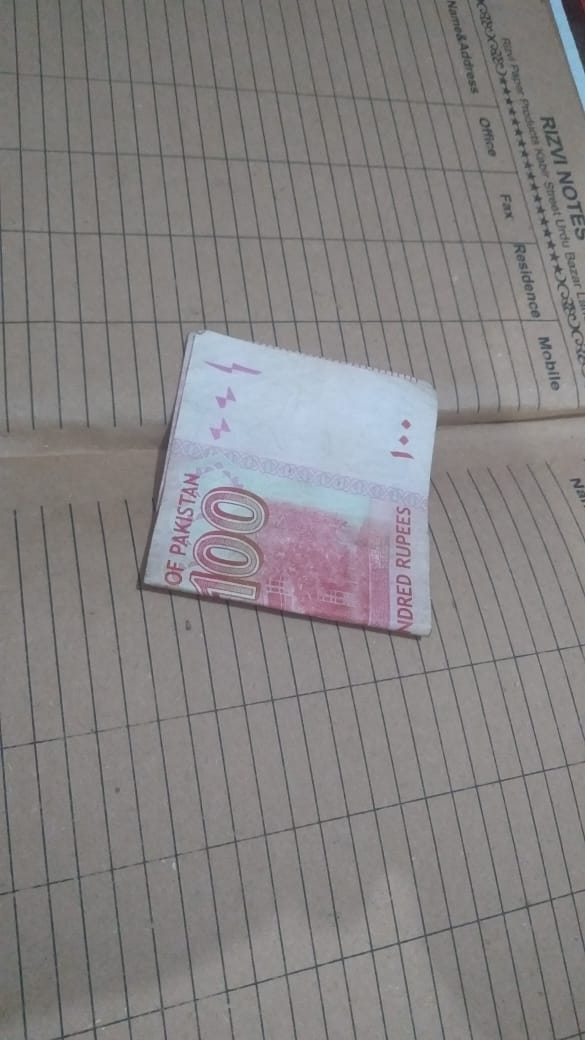100 rupee: (142, 319, 432, 642)
